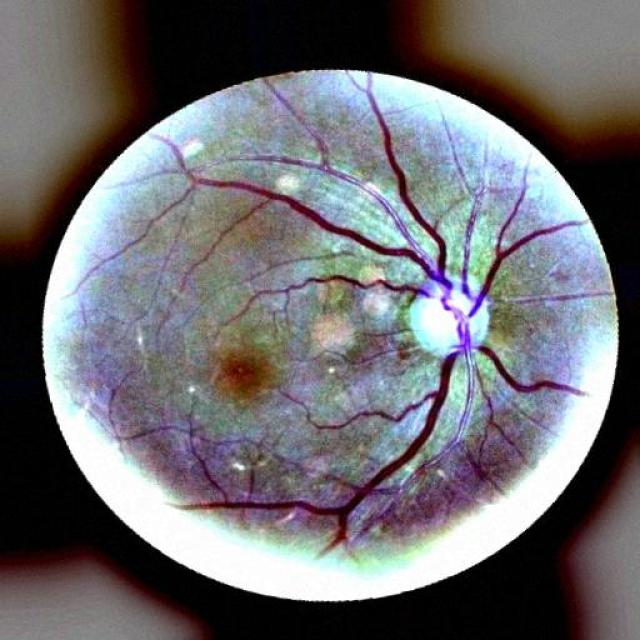Macula: (195, 345, 286, 418)
Nerves: (203, 370, 460, 553), (207, 171, 428, 268), (376, 113, 458, 259), (482, 216, 578, 286), (487, 351, 583, 397), (484, 178, 521, 260)
Optic Disk: (398, 272, 499, 367)
